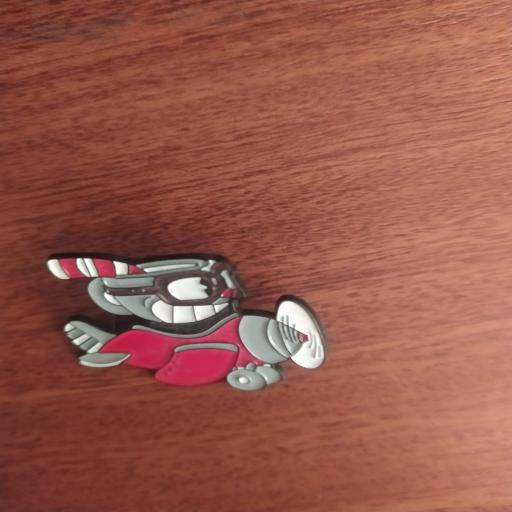Pin: (36, 244, 338, 400)
